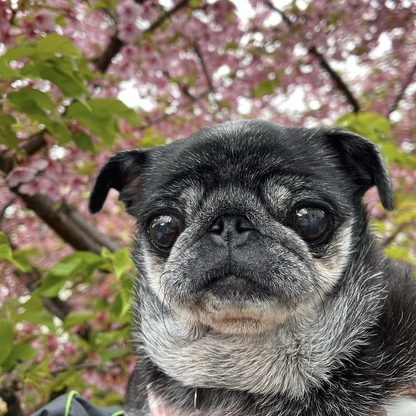Pug: (83, 112, 416, 416)
